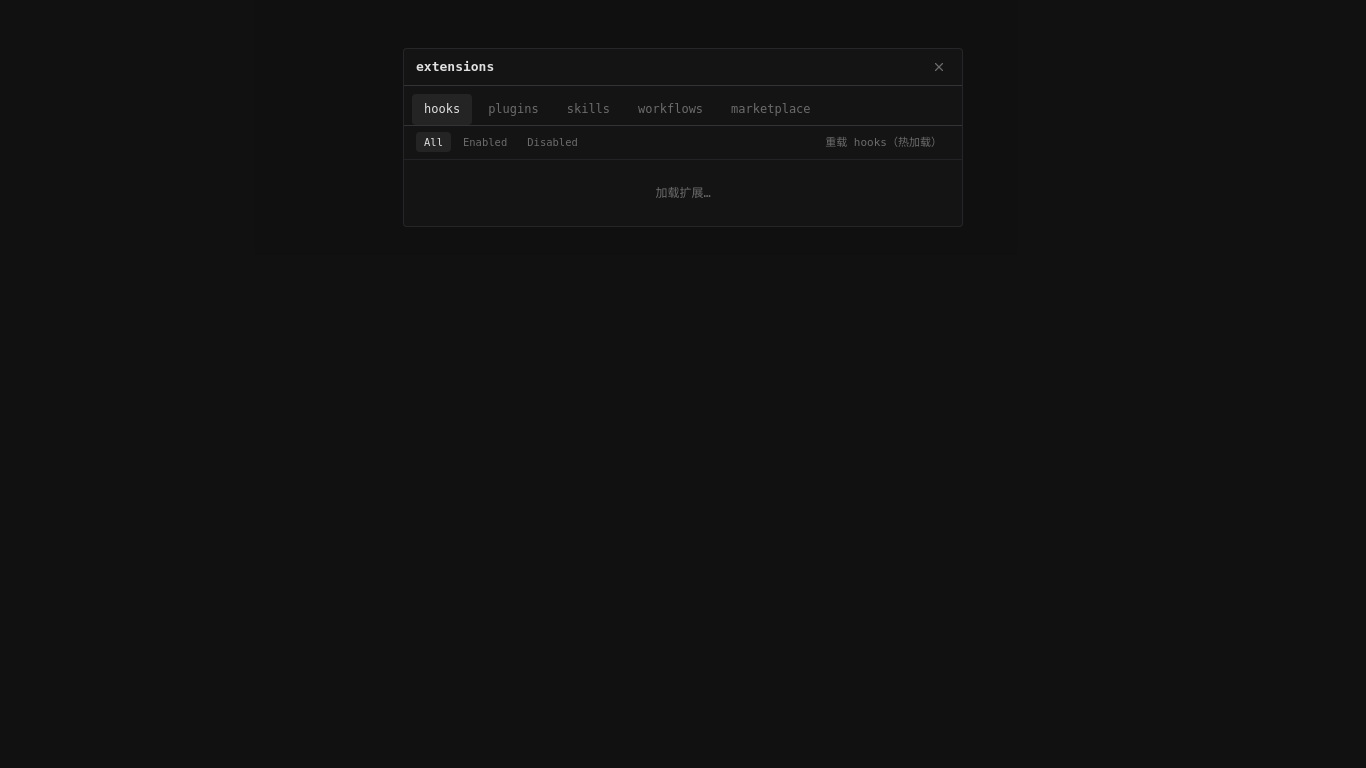
Test: ExtensionsModal › 切换 tabs：plugins（按 source 分组）/ marketplace（无过滤条）
The width and height of the screenshot is (1366, 768).
Click the button "plugins" at (513, 109), box [476,94,551,125]
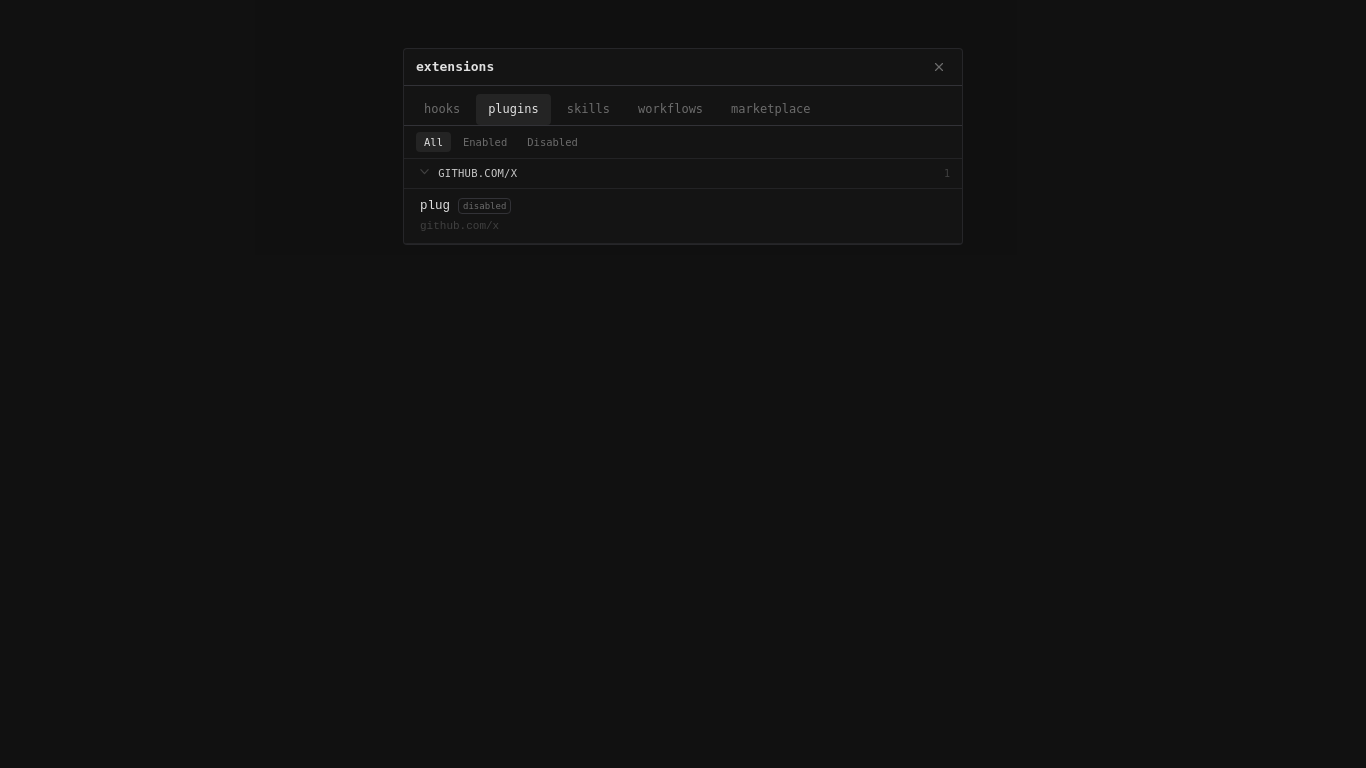
Expected: the text "plug" is shown, [420,197,450,216]
Expected: the 1st text "github.com/x" is shown, [438,167,517,179]
Click the button "marketplace" at (771, 109), box [719,94,823,125]
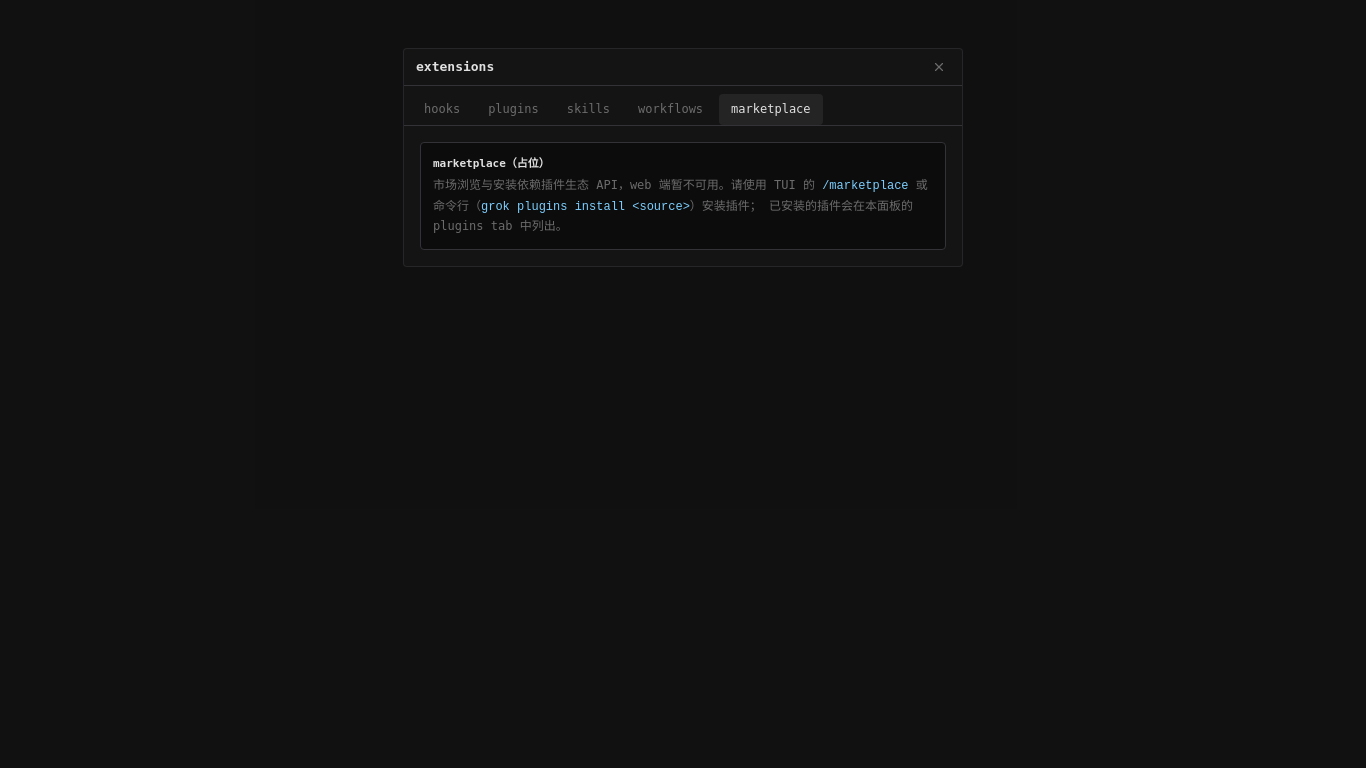
Expected: the text "市场浏览与安装依赖插件生态 API" is shown, [433,178,822,192]
Expected: the button "Enabled" is gone
